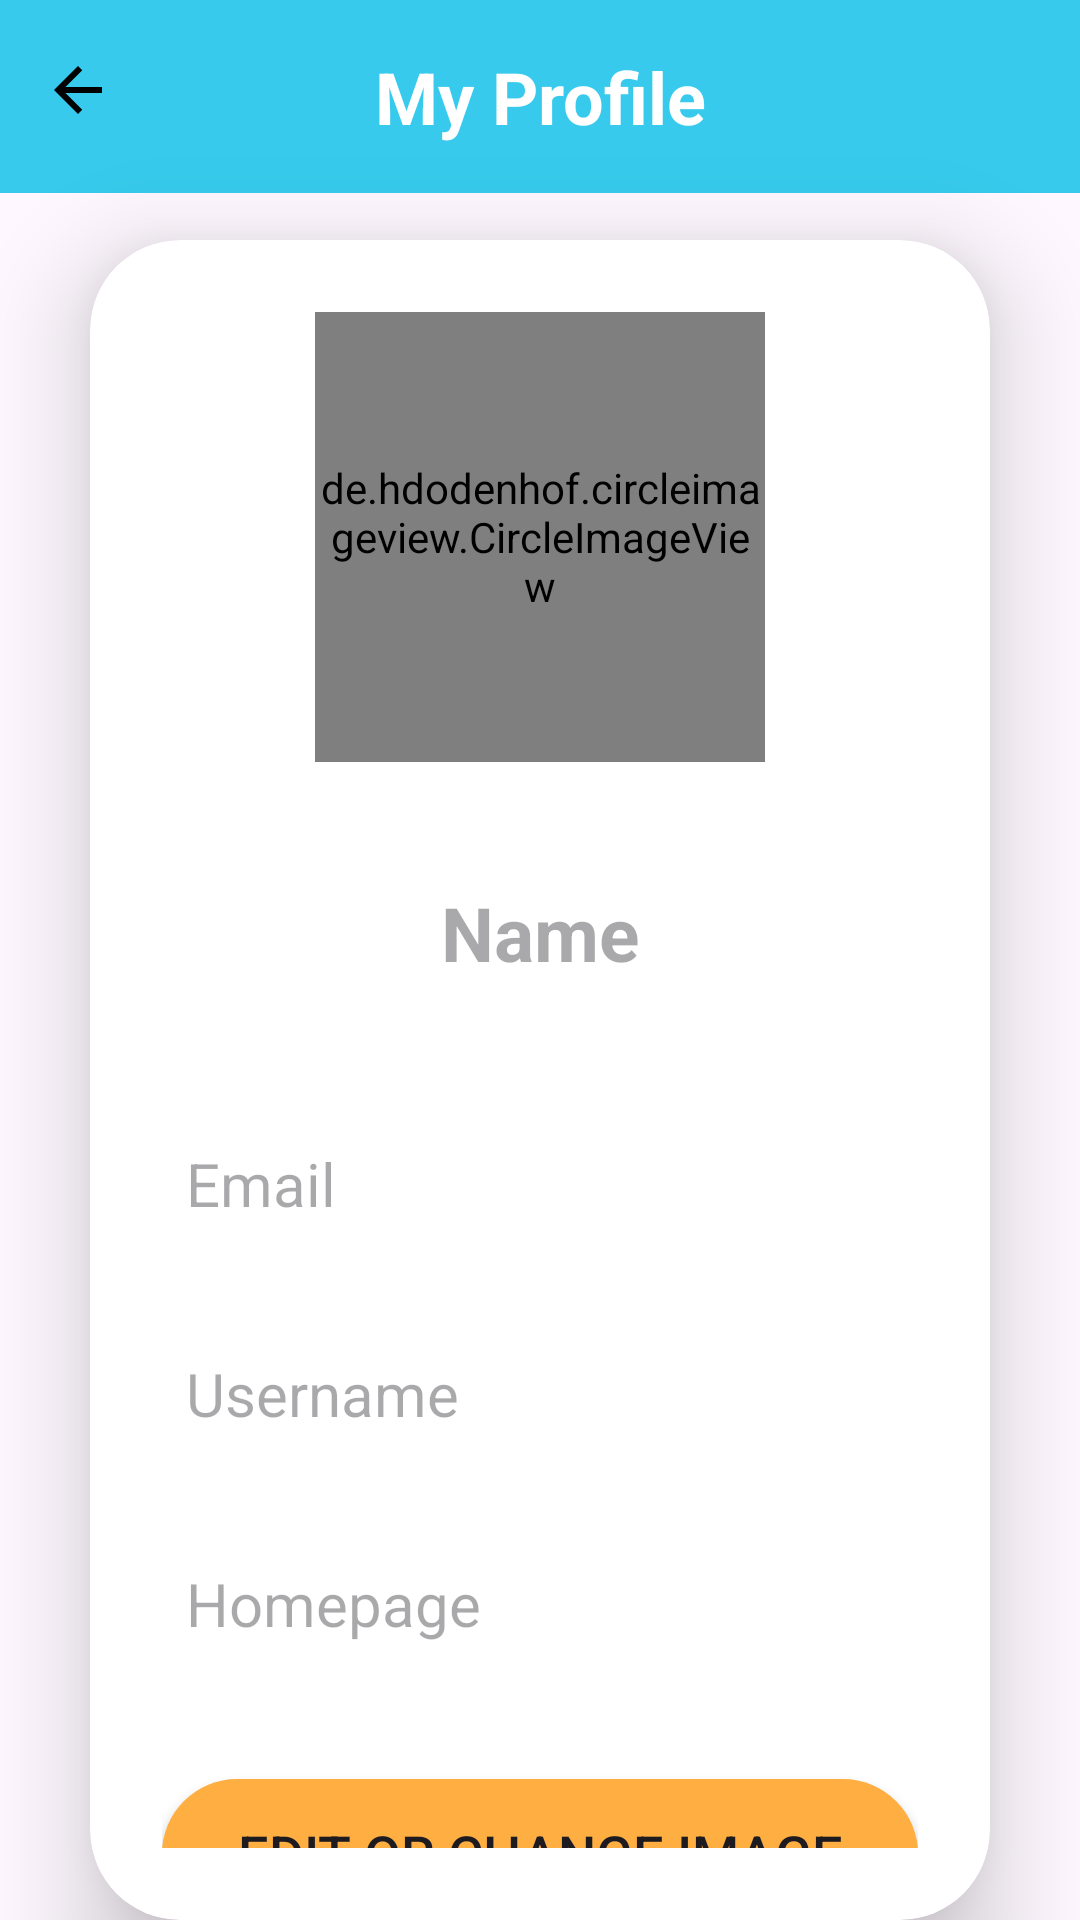

Where to tap for icons on this 1080×1920 app screen, as point (x, y):
go back to previous page: point (78, 90)
